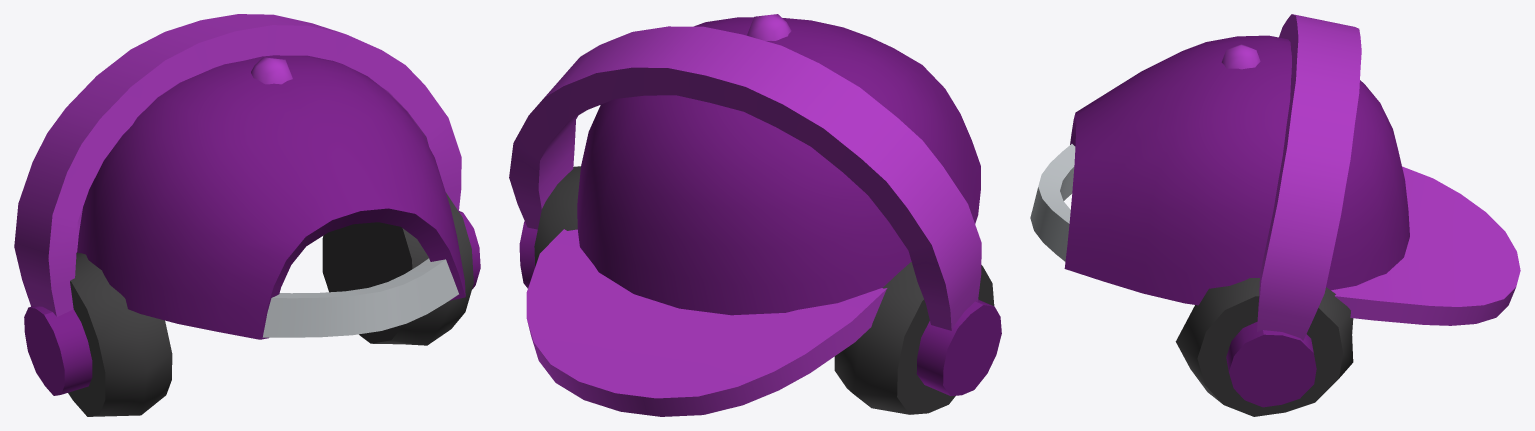
Rendered from 2滑板帽.fbx.
3 renders of one model, left to right at view 1: azimuth 30°, elevation 25°; view 2: azimuth 150°, elevation 25°; view 3: azimuth 270°, elevation 25°, orthographic. The views are drawn at different scales.
Visible parts, largest first — view 1: 2滑板帽; view 2: 2滑板帽; view 3: 2滑板帽.
Boxes of the visible parts, x1,y1,x2,y2 form: 2滑板帽: [14, 14, 480, 416]; 2滑板帽: [509, 14, 1001, 416]; 2滑板帽: [1030, 14, 1520, 416].
Size of the model in its own units: 0.5297 by 0.3935 by 0.5785.
